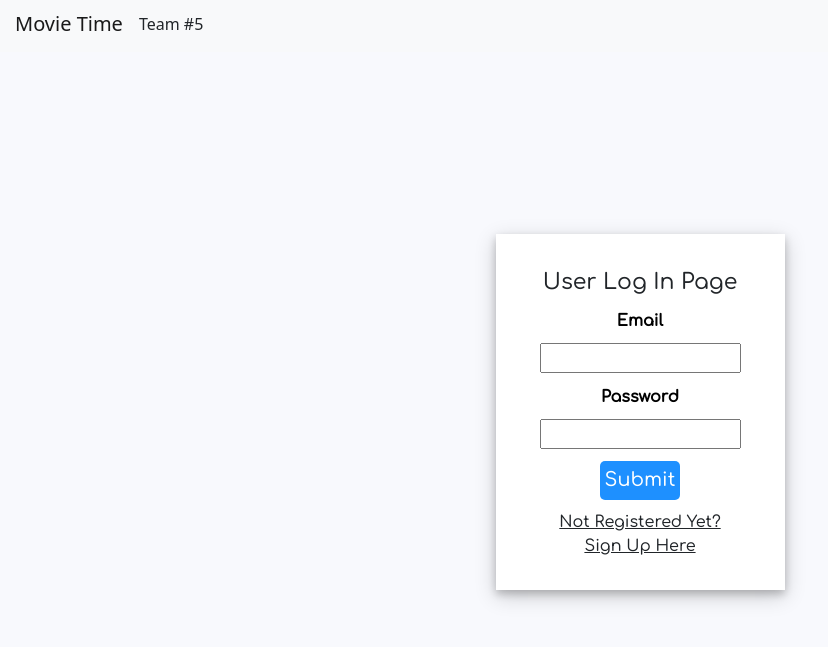
Test: App › navigates to the sign up page when the "Sign Up" button is clicked
Click the element with test id "toSignUp" at [640, 534], box [559, 513, 721, 555]
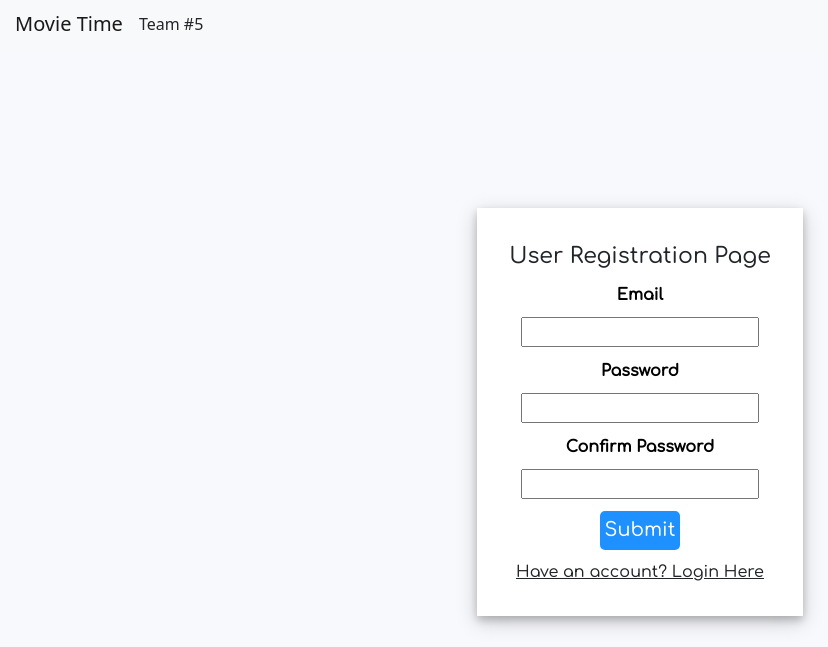
Result: the password field labelled "Confirm Password" is shown at [521, 469, 759, 499]
